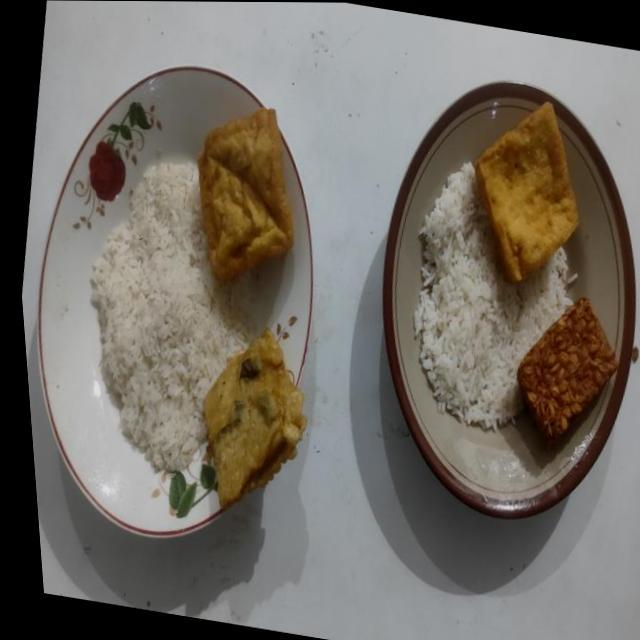nasi_putih: (91, 162, 252, 472), (414, 162, 572, 430)
tahu_goreng: (475, 104, 578, 280), (198, 108, 294, 280)
tempe_goreng: (517, 297, 618, 443)
